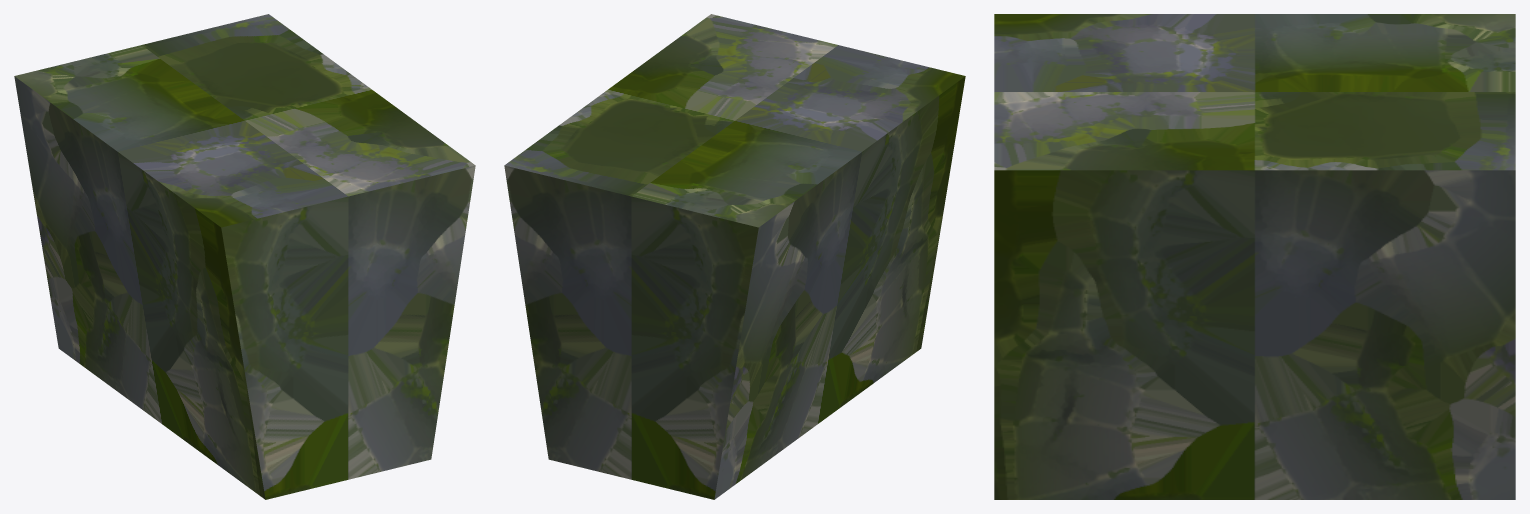
File: Arch_Voussoir_05.glb
3 views of the same model, side by side, from view 1: azimuth 30°, elevation 25°; view 2: azimuth 150°, elevation 25°; view 3: azimuth 270°, elevation 25° (orthographic). The views are drawn at different scales.
Visible parts, largest first — view 1: Arch_Voussoir_05__Arch_Voussoir_05; view 2: Arch_Voussoir_05__Arch_Voussoir_05; view 3: Arch_Voussoir_05__Arch_Voussoir_05.
Boxes of the visible parts, <box> form: Arch_Voussoir_05__Arch_Voussoir_05: <box>14,14,475,499</box>; Arch_Voussoir_05__Arch_Voussoir_05: <box>504,14,965,499</box>; Arch_Voussoir_05__Arch_Voussoir_05: <box>994,14,1515,499</box>.
Bounding box in the file's own units: 0.6958 × 0.7401 × 0.98.
1 material, 1 textured.
